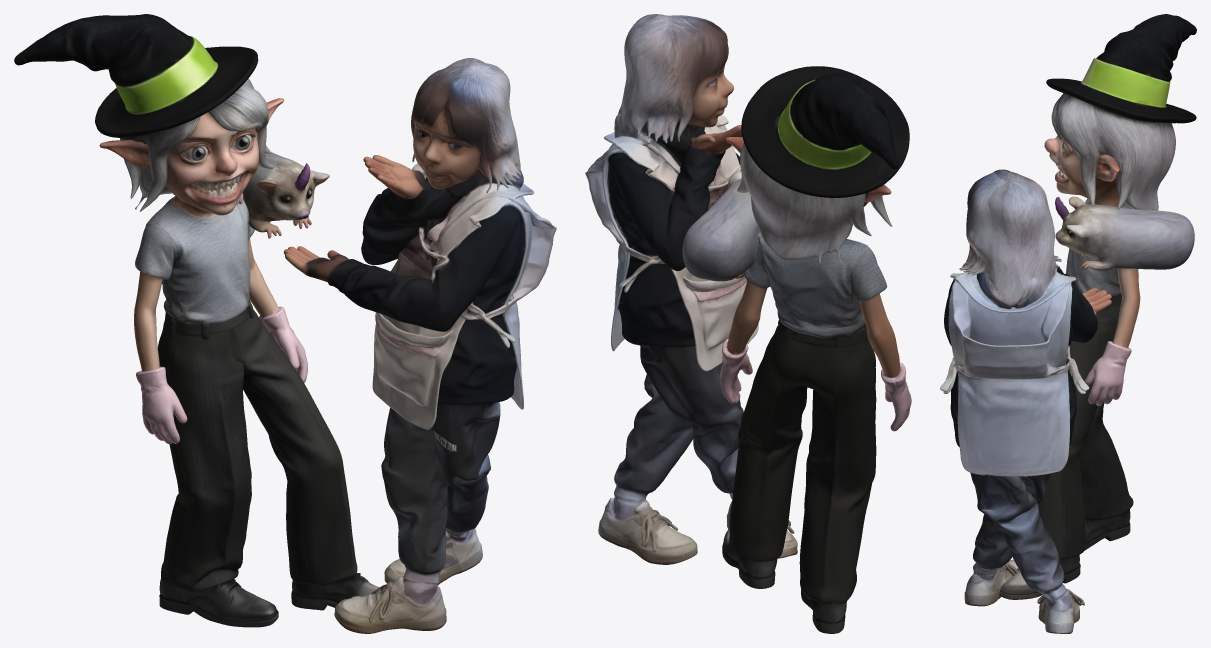
Rendered from Julieta baja.glb.
3 views of the same model, side by side, from view 1: azimuth 30°, elevation 25°; view 2: azimuth 150°, elevation 25°; view 3: azimuth 270°, elevation 25° (orthographic). The views are drawn at different scales.
Parts seen in each view (by area): view 1: tripo_node_a60a2805-1a92-46c5-b6e3-685504c86e32; view 2: tripo_node_a60a2805-1a92-46c5-b6e3-685504c86e32; view 3: tripo_node_a60a2805-1a92-46c5-b6e3-685504c86e32.
Boxes of the visible parts, left/top/right/bottom form: tripo_node_a60a2805-1a92-46c5-b6e3-685504c86e32: left=14, top=14, right=556, bottom=633; tripo_node_a60a2805-1a92-46c5-b6e3-685504c86e32: left=585, top=14, right=911, bottom=633; tripo_node_a60a2805-1a92-46c5-b6e3-685504c86e32: left=940, top=14, right=1196, bottom=633.
Size of the model in its own units: 0.7402 by 1 by 0.4717.
Materials: 1 (1 with a texture image).
